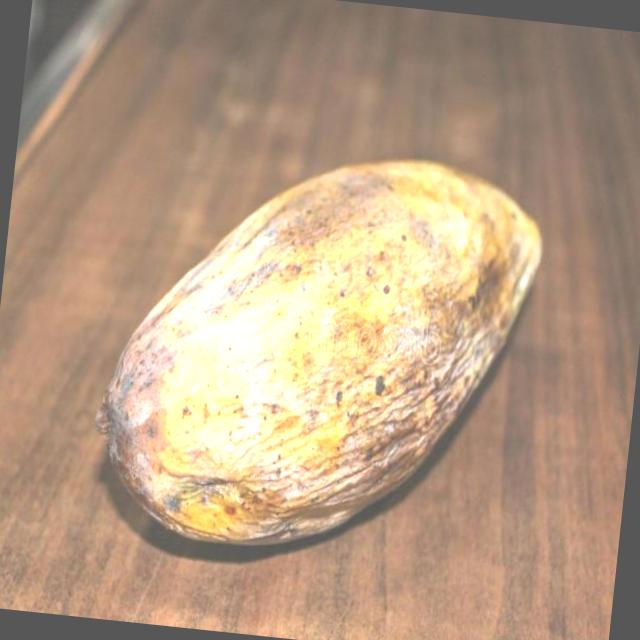Mango: (85, 126, 552, 584)
